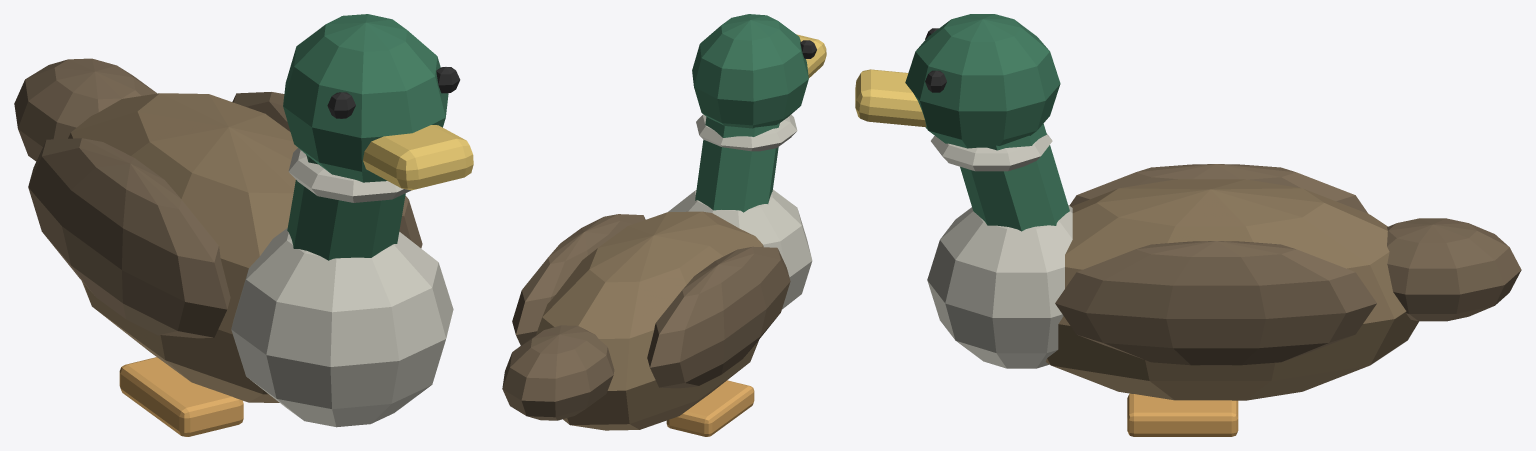
Rendered from rv_duck.gltf.
3 renders of one model, left to right at view 1: azimuth 30°, elevation 25°; view 2: azimuth 150°, elevation 25°; view 3: azimuth 270°, elevation 25°, orthographic. The views are drawn at different scales.
Parts seen in each view (by area): view 1: RV_Duck; view 2: RV_Duck; view 3: RV_Duck.
Boxes of the visible parts, <box> form: RV_Duck: <box>14,14,473,436</box>; RV_Duck: <box>502,14,826,436</box>; RV_Duck: <box>855,14,1521,436</box>.
Bounding box in the file's own units: 0.2306 × 0.379 × 0.5997.
